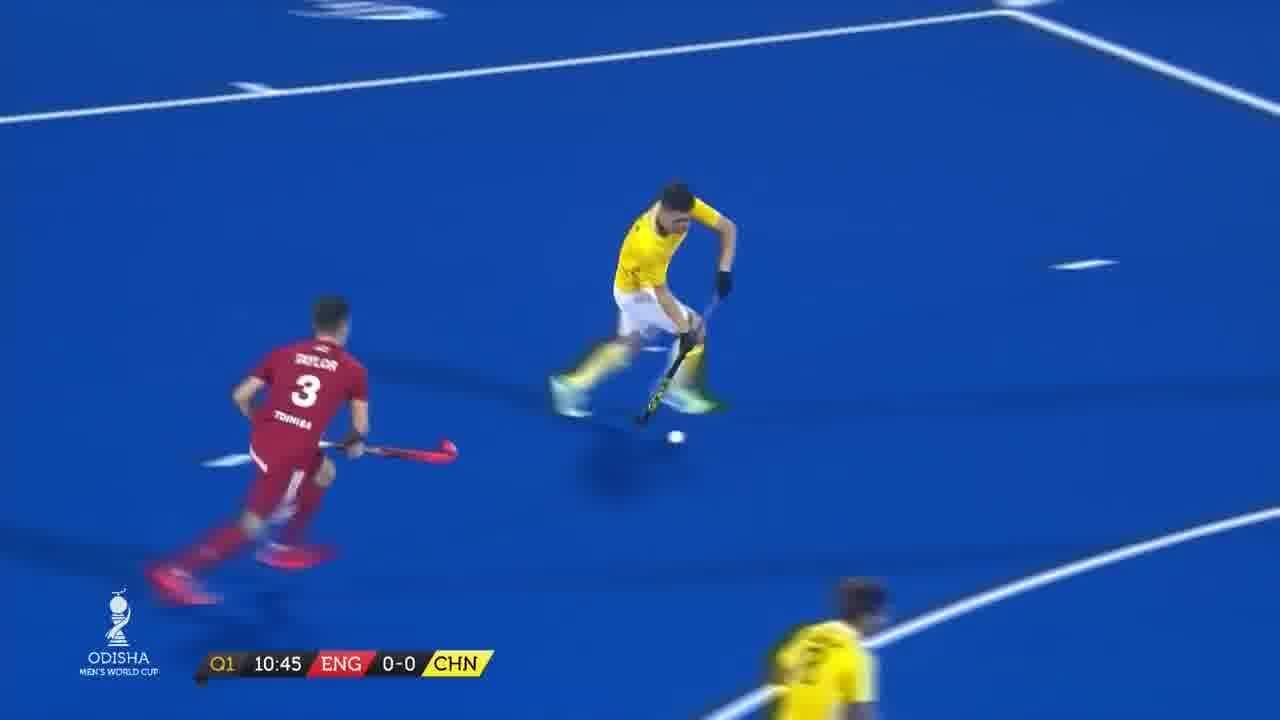ball: (670, 428, 688, 448)
